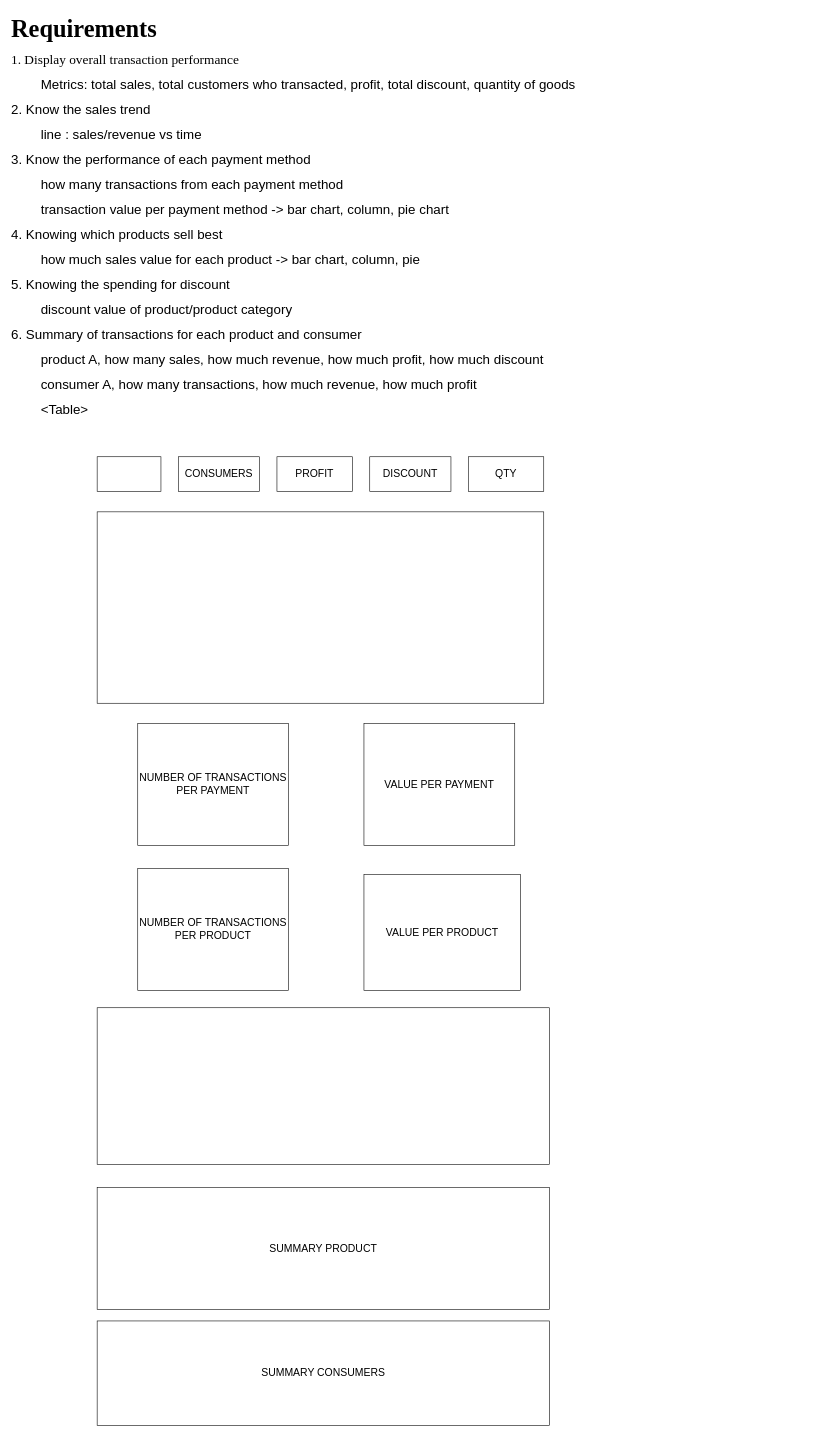
The diagram is 832 pixels wide and 1436 high, and some of its shapes have lost their labels. Here are the shapes that lost their labels. From the top down, the centre of each, then its label:
the point at 129,474: SALES
the point at 320,607: LINE CHART REVENUE/SALES OVER TIME
the point at 323,1085: DISCOUNT/PRODUCT,CATEGORY
